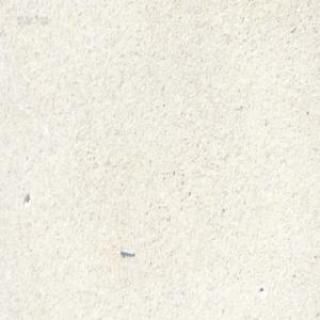Nailtrack_idkeyframe: (118, 245, 134, 256)
